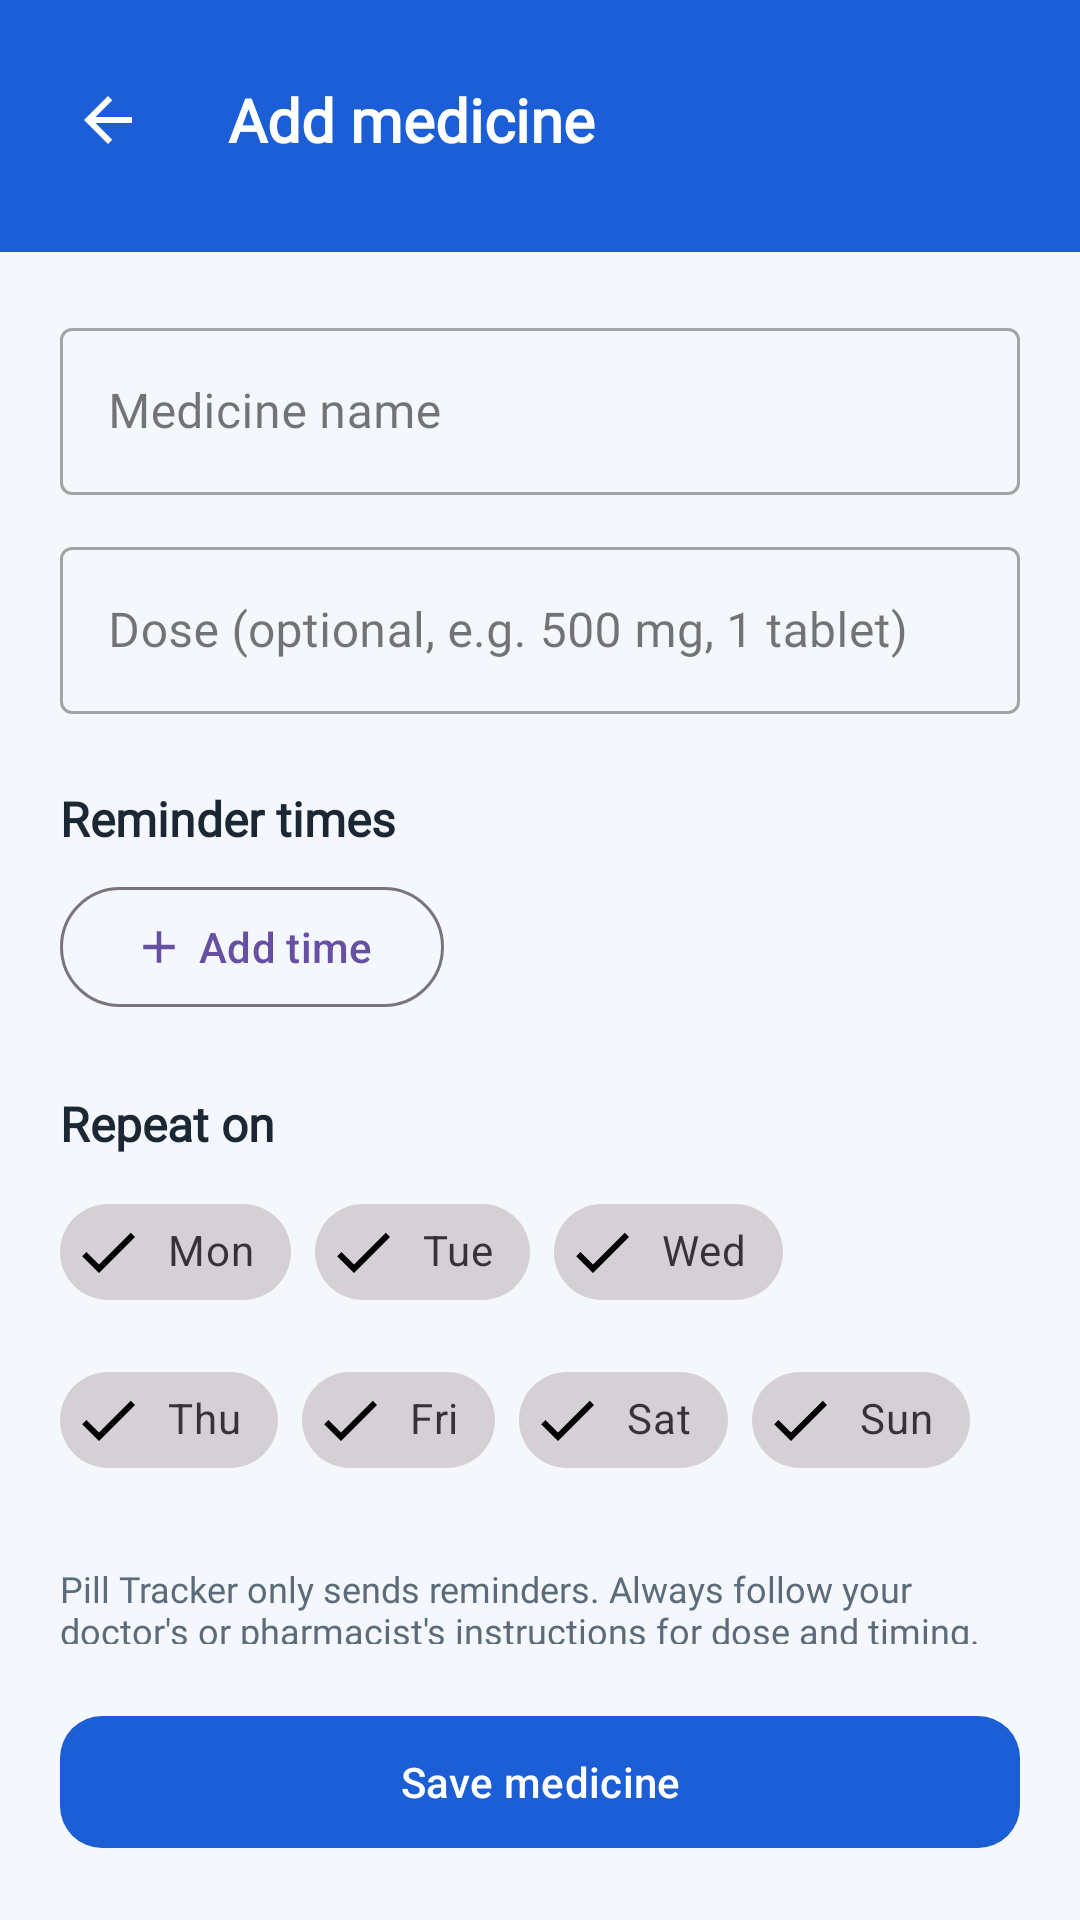

Icon bounding boxes for this 1080 x 1920 phone screenshot, format (x1, y1, x2, y2):
Back: (84, 96, 132, 144)
